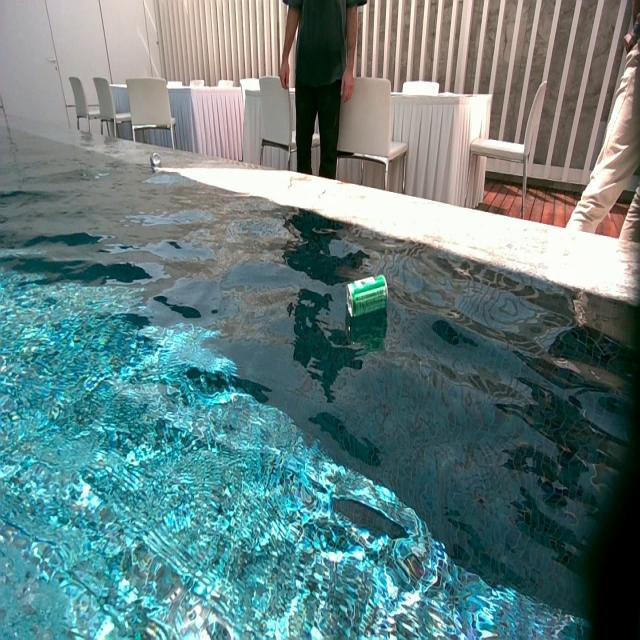Cans: (349, 276, 384, 322), (149, 151, 163, 168)
